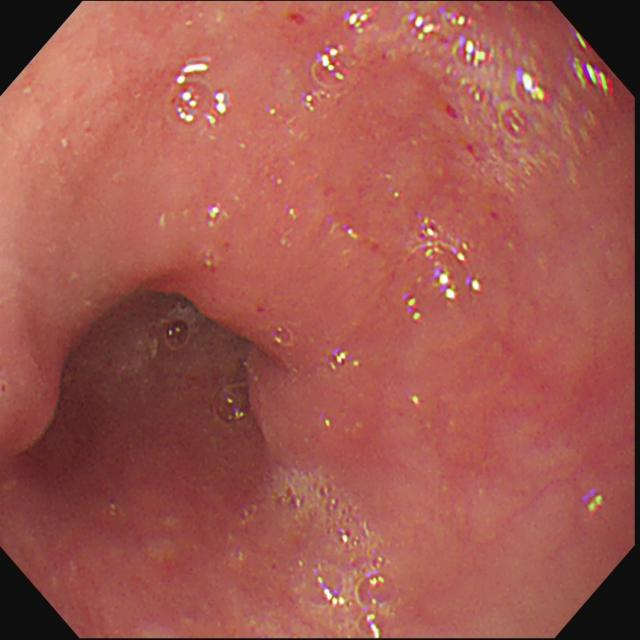E: (41, 277, 267, 462)
T: (263, 465, 399, 639), (445, 37, 553, 191), (397, 214, 484, 326), (346, 2, 479, 46), (171, 57, 229, 131), (305, 43, 356, 113), (155, 305, 202, 352), (213, 380, 255, 427)
U: (571, 32, 616, 98), (330, 350, 362, 373), (205, 205, 222, 231), (587, 494, 605, 517)
